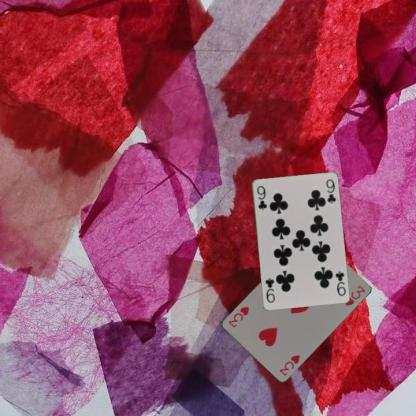3h: (277, 352, 301, 377)
9c: (332, 268, 347, 297), (254, 183, 268, 211)
